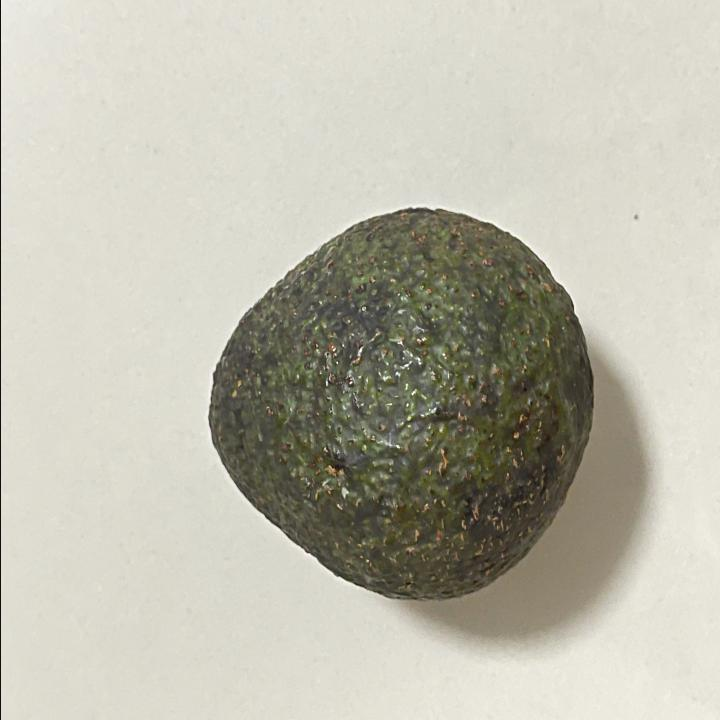Level1: (190, 195, 606, 613)
